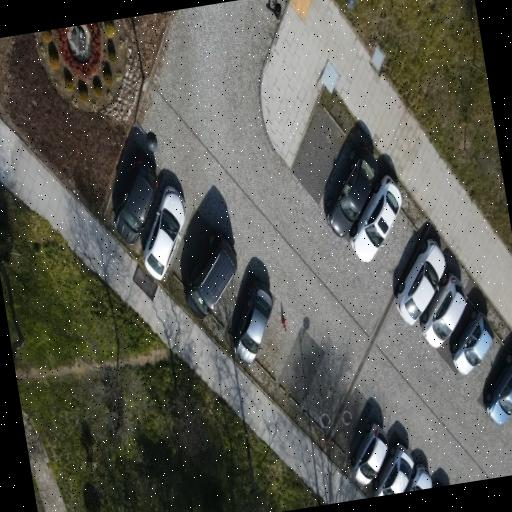car: (326, 146, 376, 235), (349, 176, 401, 261), (184, 233, 236, 317), (395, 238, 444, 323), (143, 185, 184, 278), (113, 159, 157, 243), (419, 272, 465, 347), (233, 280, 272, 363), (450, 310, 493, 374), (372, 443, 413, 496), (351, 422, 386, 484), (483, 353, 511, 424), (404, 464, 431, 491)
person: (265, 2, 280, 19)
